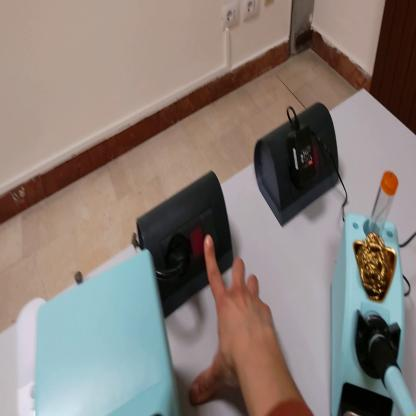hand: (189, 233, 292, 409)
socket: (139, 172, 236, 322), (256, 95, 341, 230)
welder base: (334, 155, 405, 415)
welder probe tip: (370, 328, 415, 413)
welder station: (37, 248, 180, 415)
